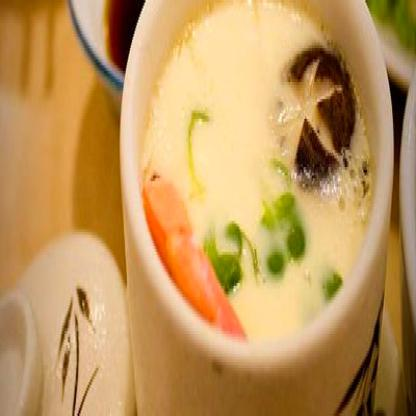Kaithoon: (134, 13, 390, 366)
